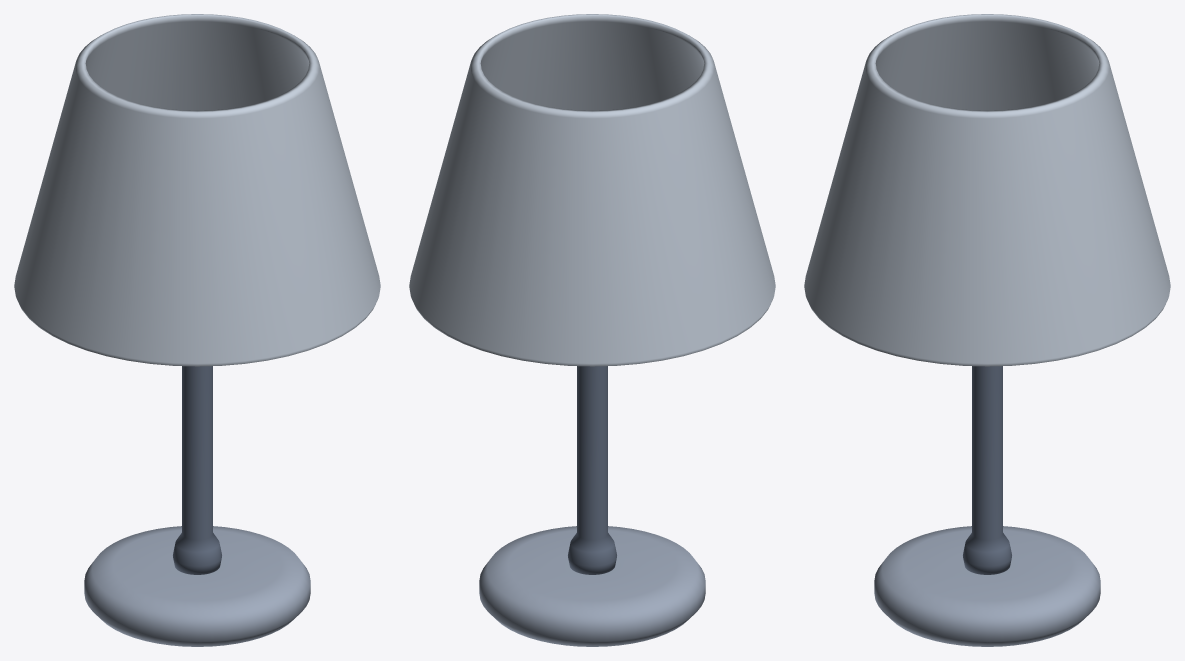
File: table-lamp.glb
3 renders of one model, left to right at view 1: azimuth 30°, elevation 25°; view 2: azimuth 150°, elevation 25°; view 3: azimuth 270°, elevation 25°, orthographic.
Parts seen in each view (by area): view 1: table-lamp-shade, table-lamp-body, table-lamp-stem; view 2: table-lamp-shade, table-lamp-body, table-lamp-stem; view 3: table-lamp-shade, table-lamp-body, table-lamp-stem.
Part boxes in pixels (bbox=[...]): table-lamp-shade: bbox=[14, 14, 380, 366]; table-lamp-body: bbox=[84, 526, 310, 646]; table-lamp-stem: bbox=[173, 366, 221, 574]; table-lamp-shade: bbox=[409, 14, 775, 366]; table-lamp-body: bbox=[479, 526, 705, 646]; table-lamp-stem: bbox=[568, 366, 616, 574]; table-lamp-shade: bbox=[804, 14, 1170, 366]; table-lamp-body: bbox=[874, 526, 1100, 646]; table-lamp-stem: bbox=[963, 366, 1011, 574].
Bounding box in the file's own units: 0.282 × 0.462 × 0.282.
